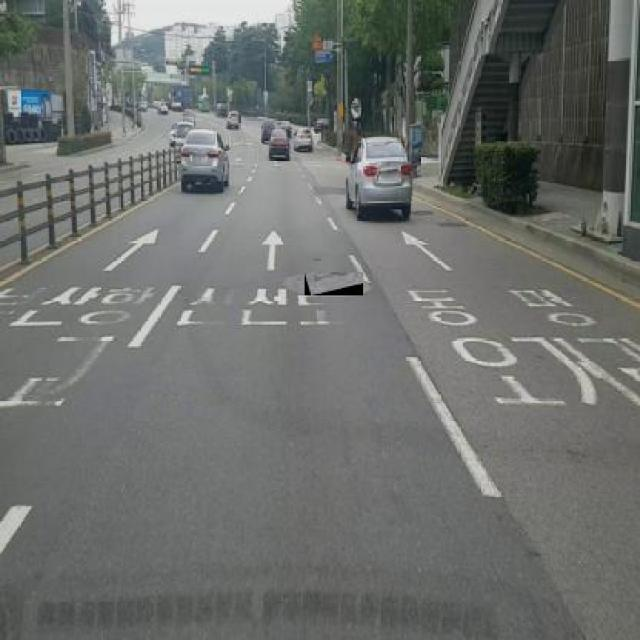Manhole: (305, 272, 363, 296), (410, 207, 440, 216), (436, 220, 469, 228)
